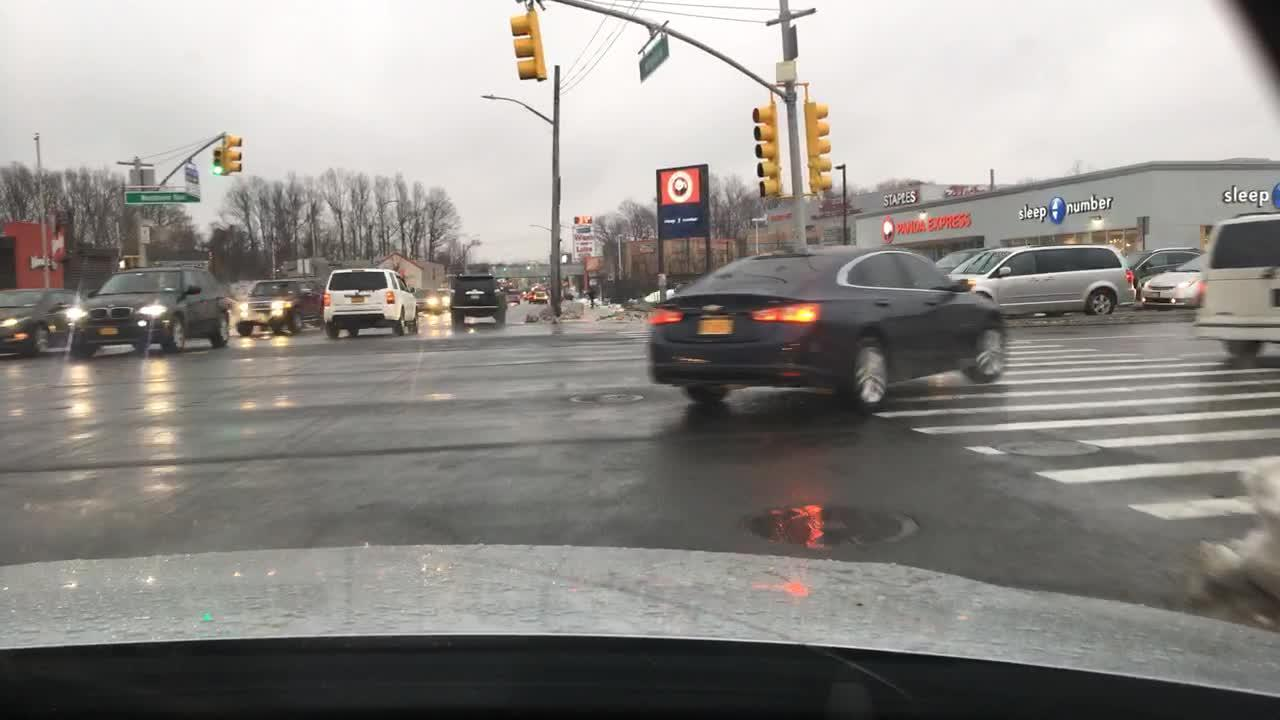chevrolet: (697, 299, 727, 316)
